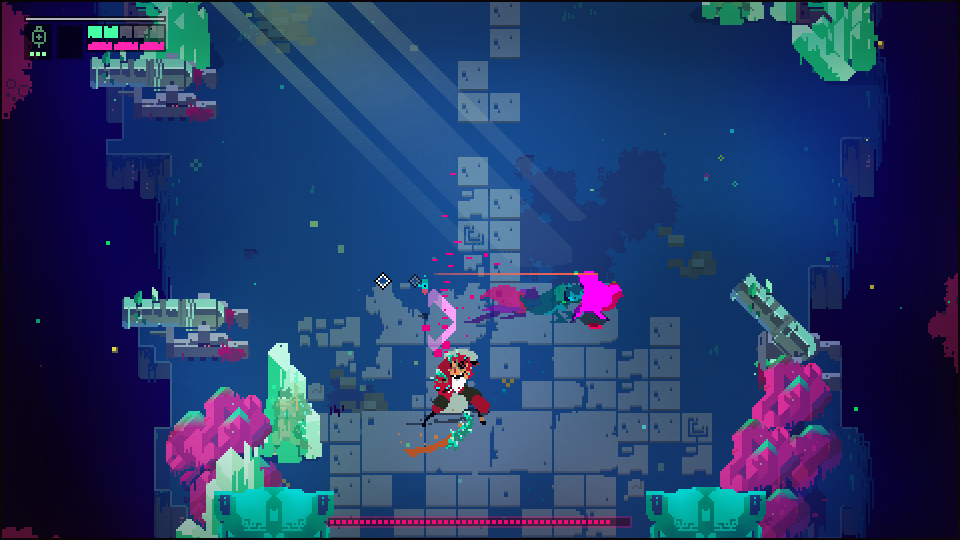hanged_man: (415, 347, 486, 452)
player: (572, 271, 623, 322)
